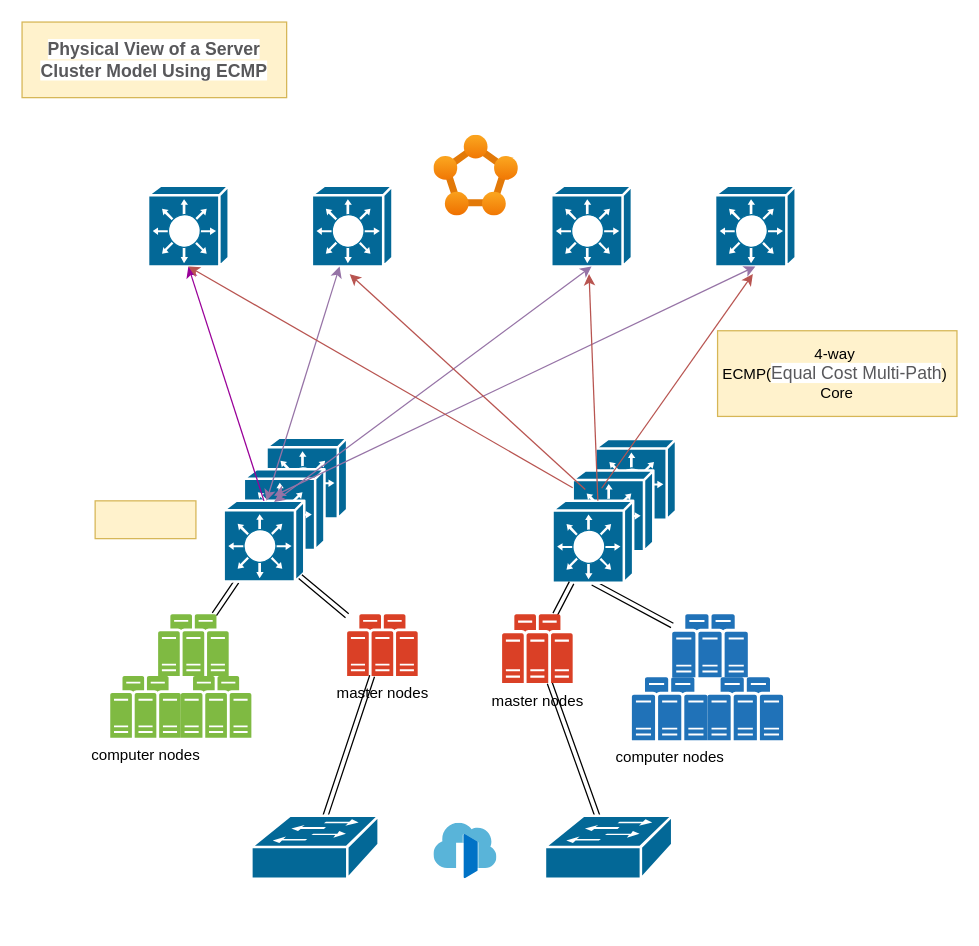
This 979x946 diagram has some shape labels left out. Each missing label, with the centre of its shape:
"Access" belongs at pixel 145 519.
"Backend high speed fabric" belongs at pixel 475 175.
"Front end" belongs at pixel 464 850.
